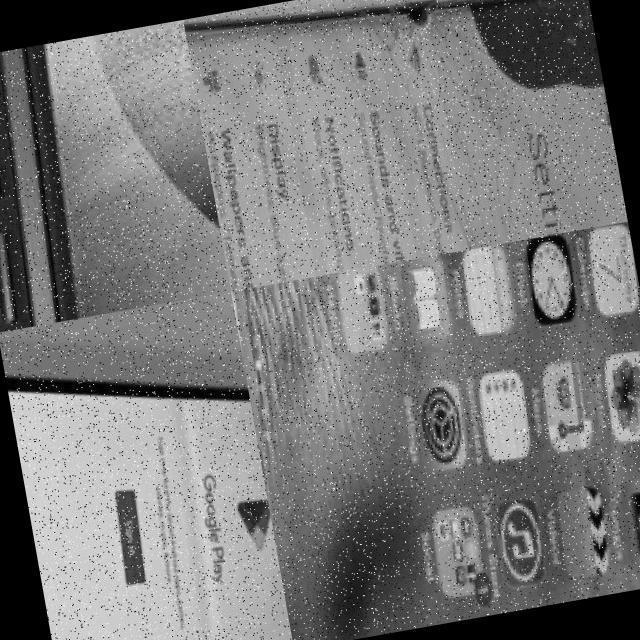dead pixel: (448, 0, 610, 149), (179, 619, 240, 640)
screen crack: (332, 0, 543, 265)
